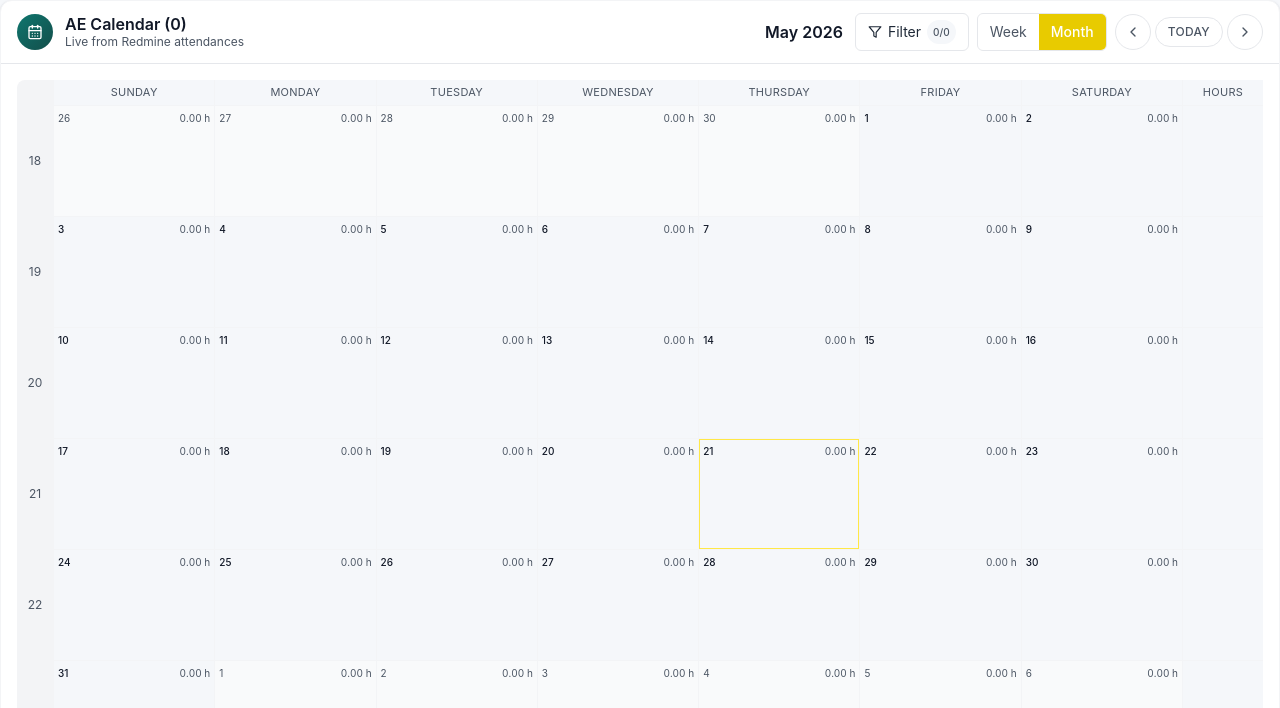
Test case: <TimeOffCalendar /> › Today button restores the current period
Click the button with test id "timeoff-prev" at (1133, 32), box [1115,14,1151,50]
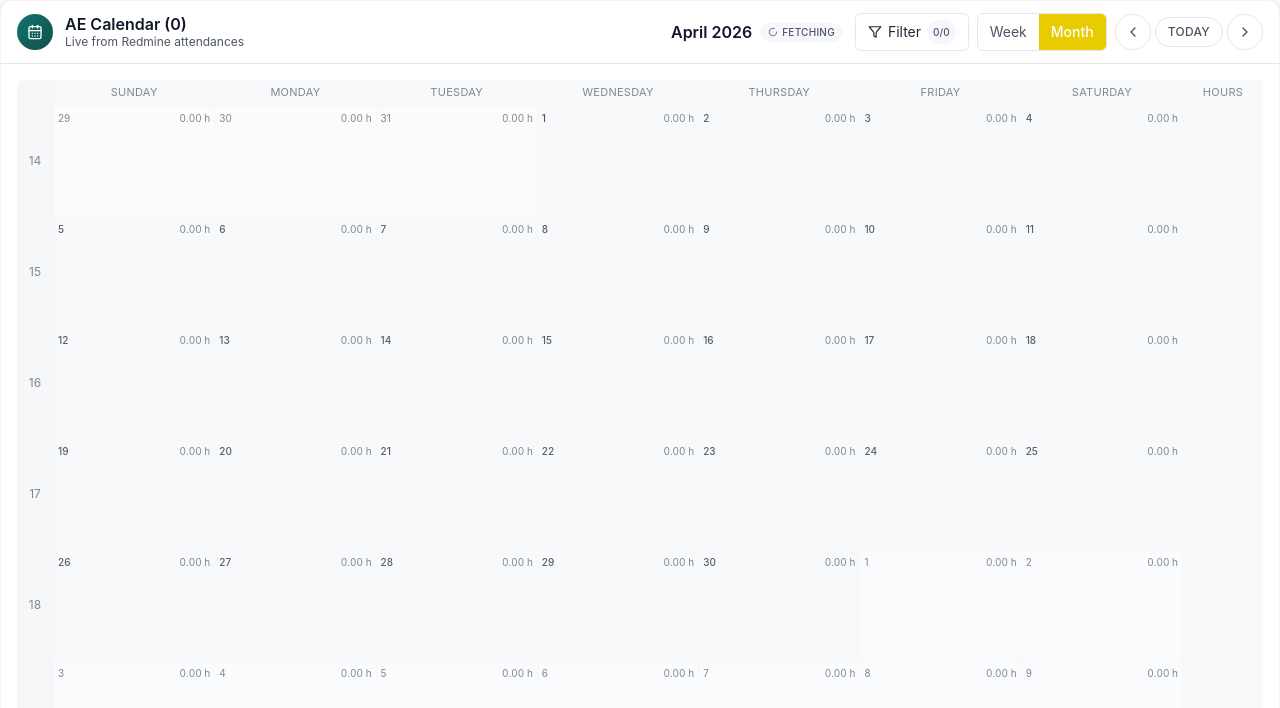
Click the button with test id "timeoff-prev" at (1133, 32), box [1115,14,1151,50]
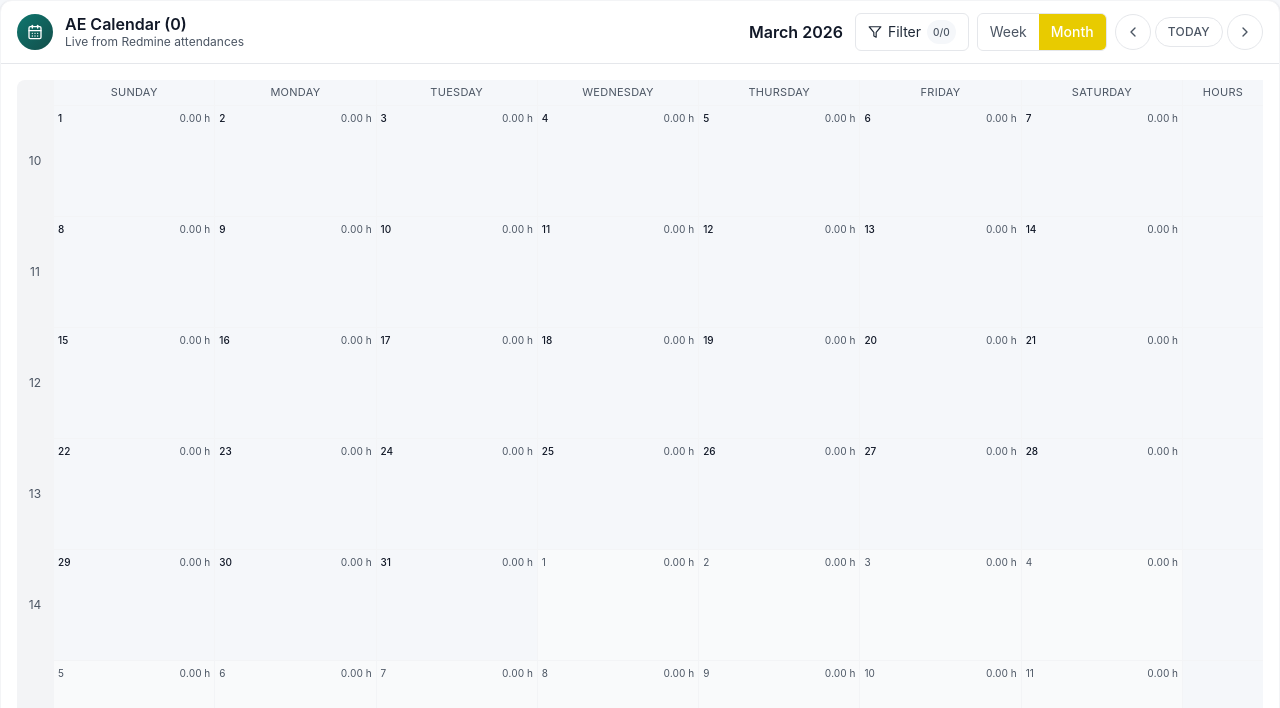
expect the text with test id "timeoff-period-label" does not show "May 2026": met
Click the button with test id "timeoff-today" at (1189, 32), box [1155,17,1223,47]
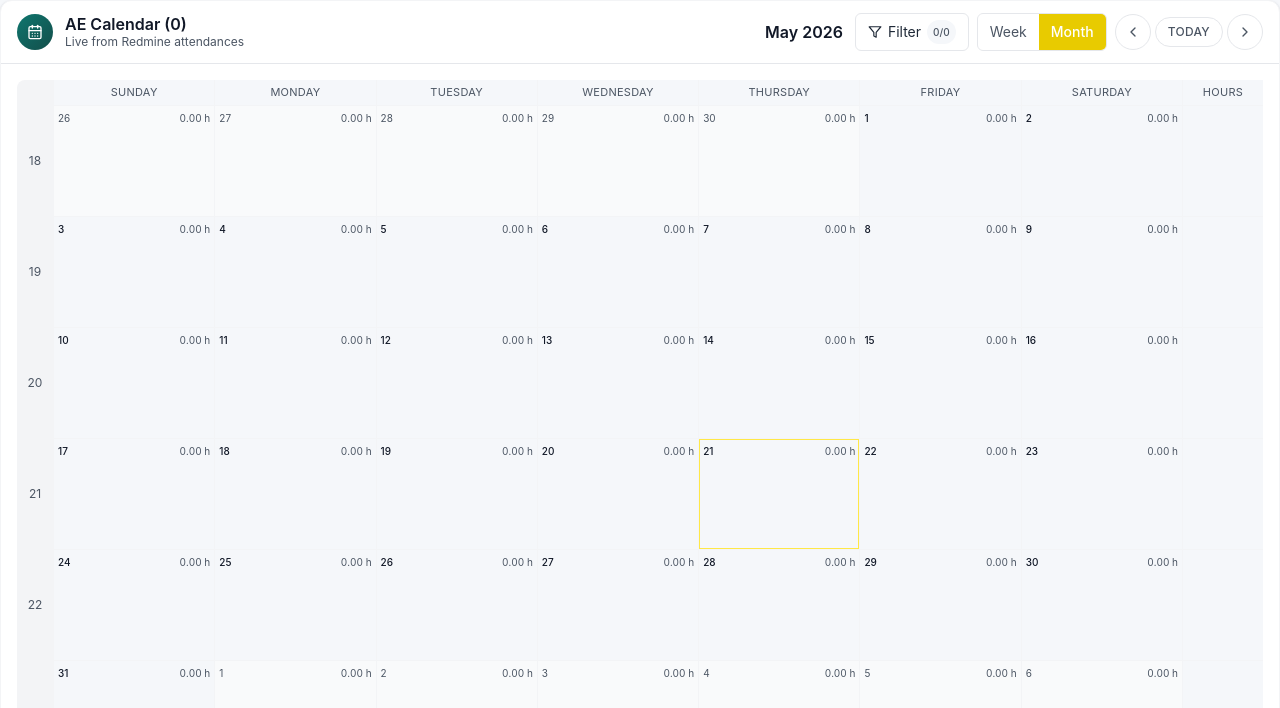
expect the element with test id "timeoff-period-label" reads "May 2026": met, box [765,22,843,42]
